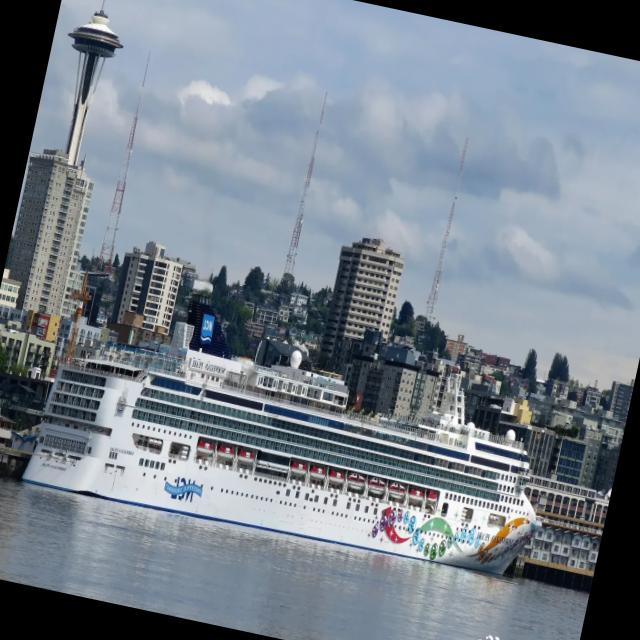Cruise: (22, 294, 536, 573)
